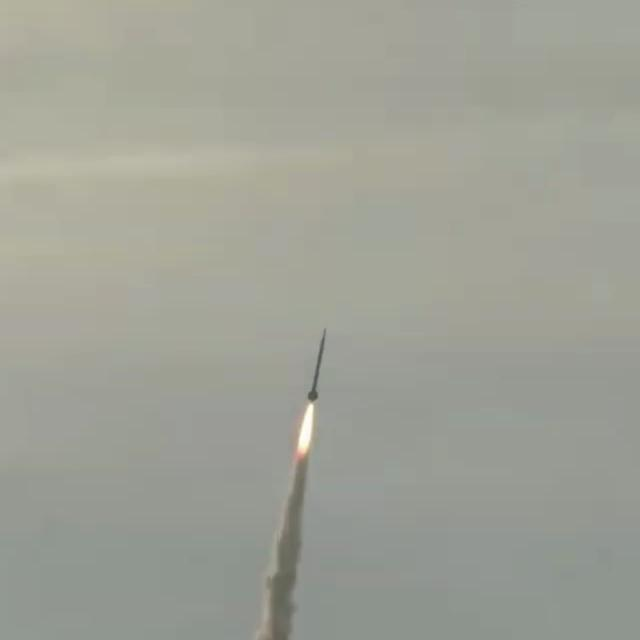smoke_trail_with_rocket: (255, 330, 326, 640)
